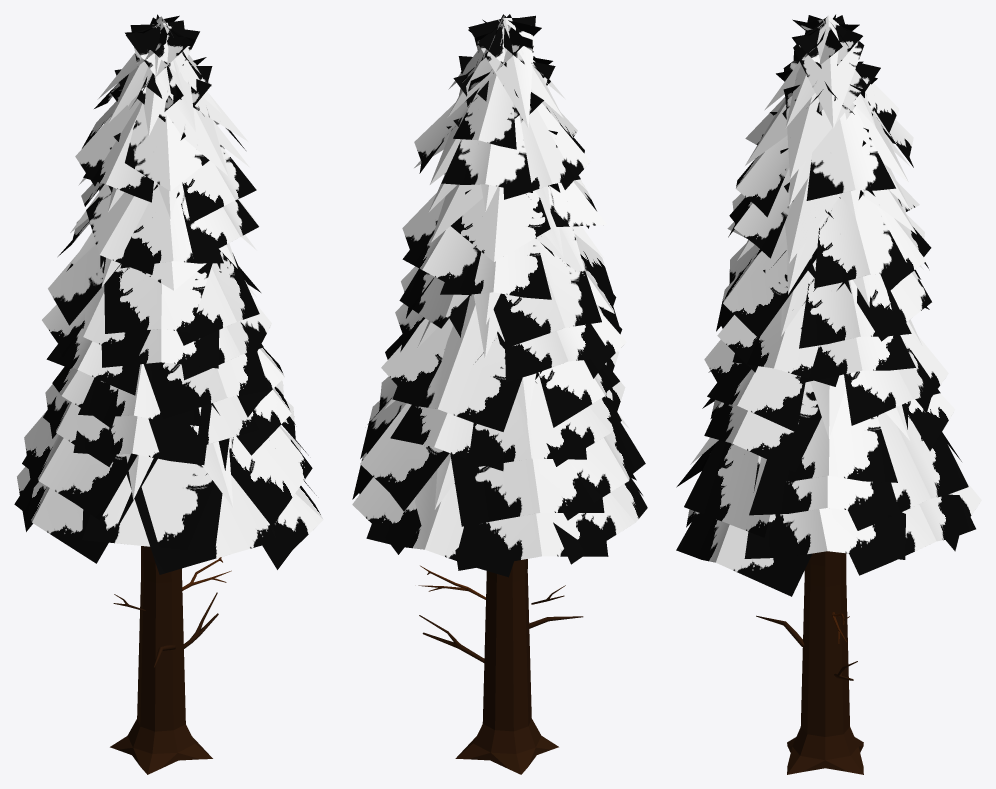
The model's file is treenew.fbx.
The picture shows the model from 3 angles, left to right: view 1: azimuth 30°, elevation 25°; view 2: azimuth 150°, elevation 25°; view 3: azimuth 270°, elevation 25°; orthographic projection.
Parts seen in each view (by area): view 1: Cube.002; view 2: Cube.002; view 3: Cube.002.
Part boxes in pixels (x1,y1,x2,y2): Cube.002: [14, 14, 323, 774]; Cube.002: [352, 14, 647, 774]; Cube.002: [676, 14, 981, 774].
Size of the model in its own units: 1229 by 3214 by 1197.
